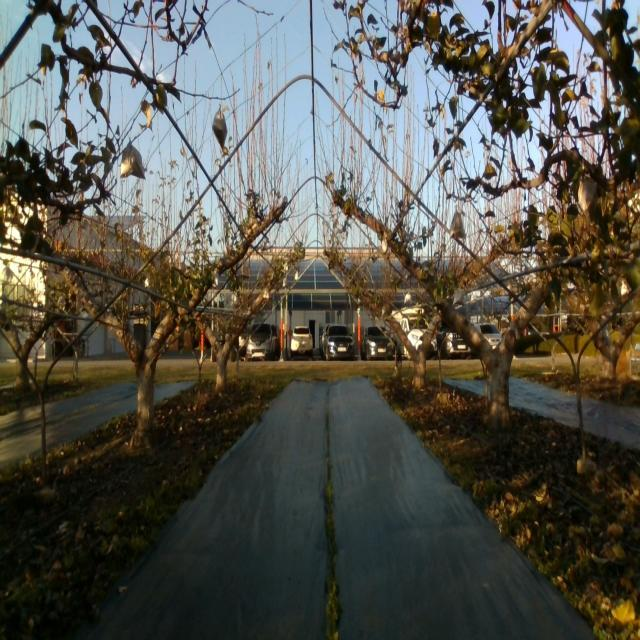pearbags: (121, 144, 146, 180), (577, 177, 596, 224), (212, 110, 228, 150), (450, 213, 466, 239), (452, 288, 465, 307)
